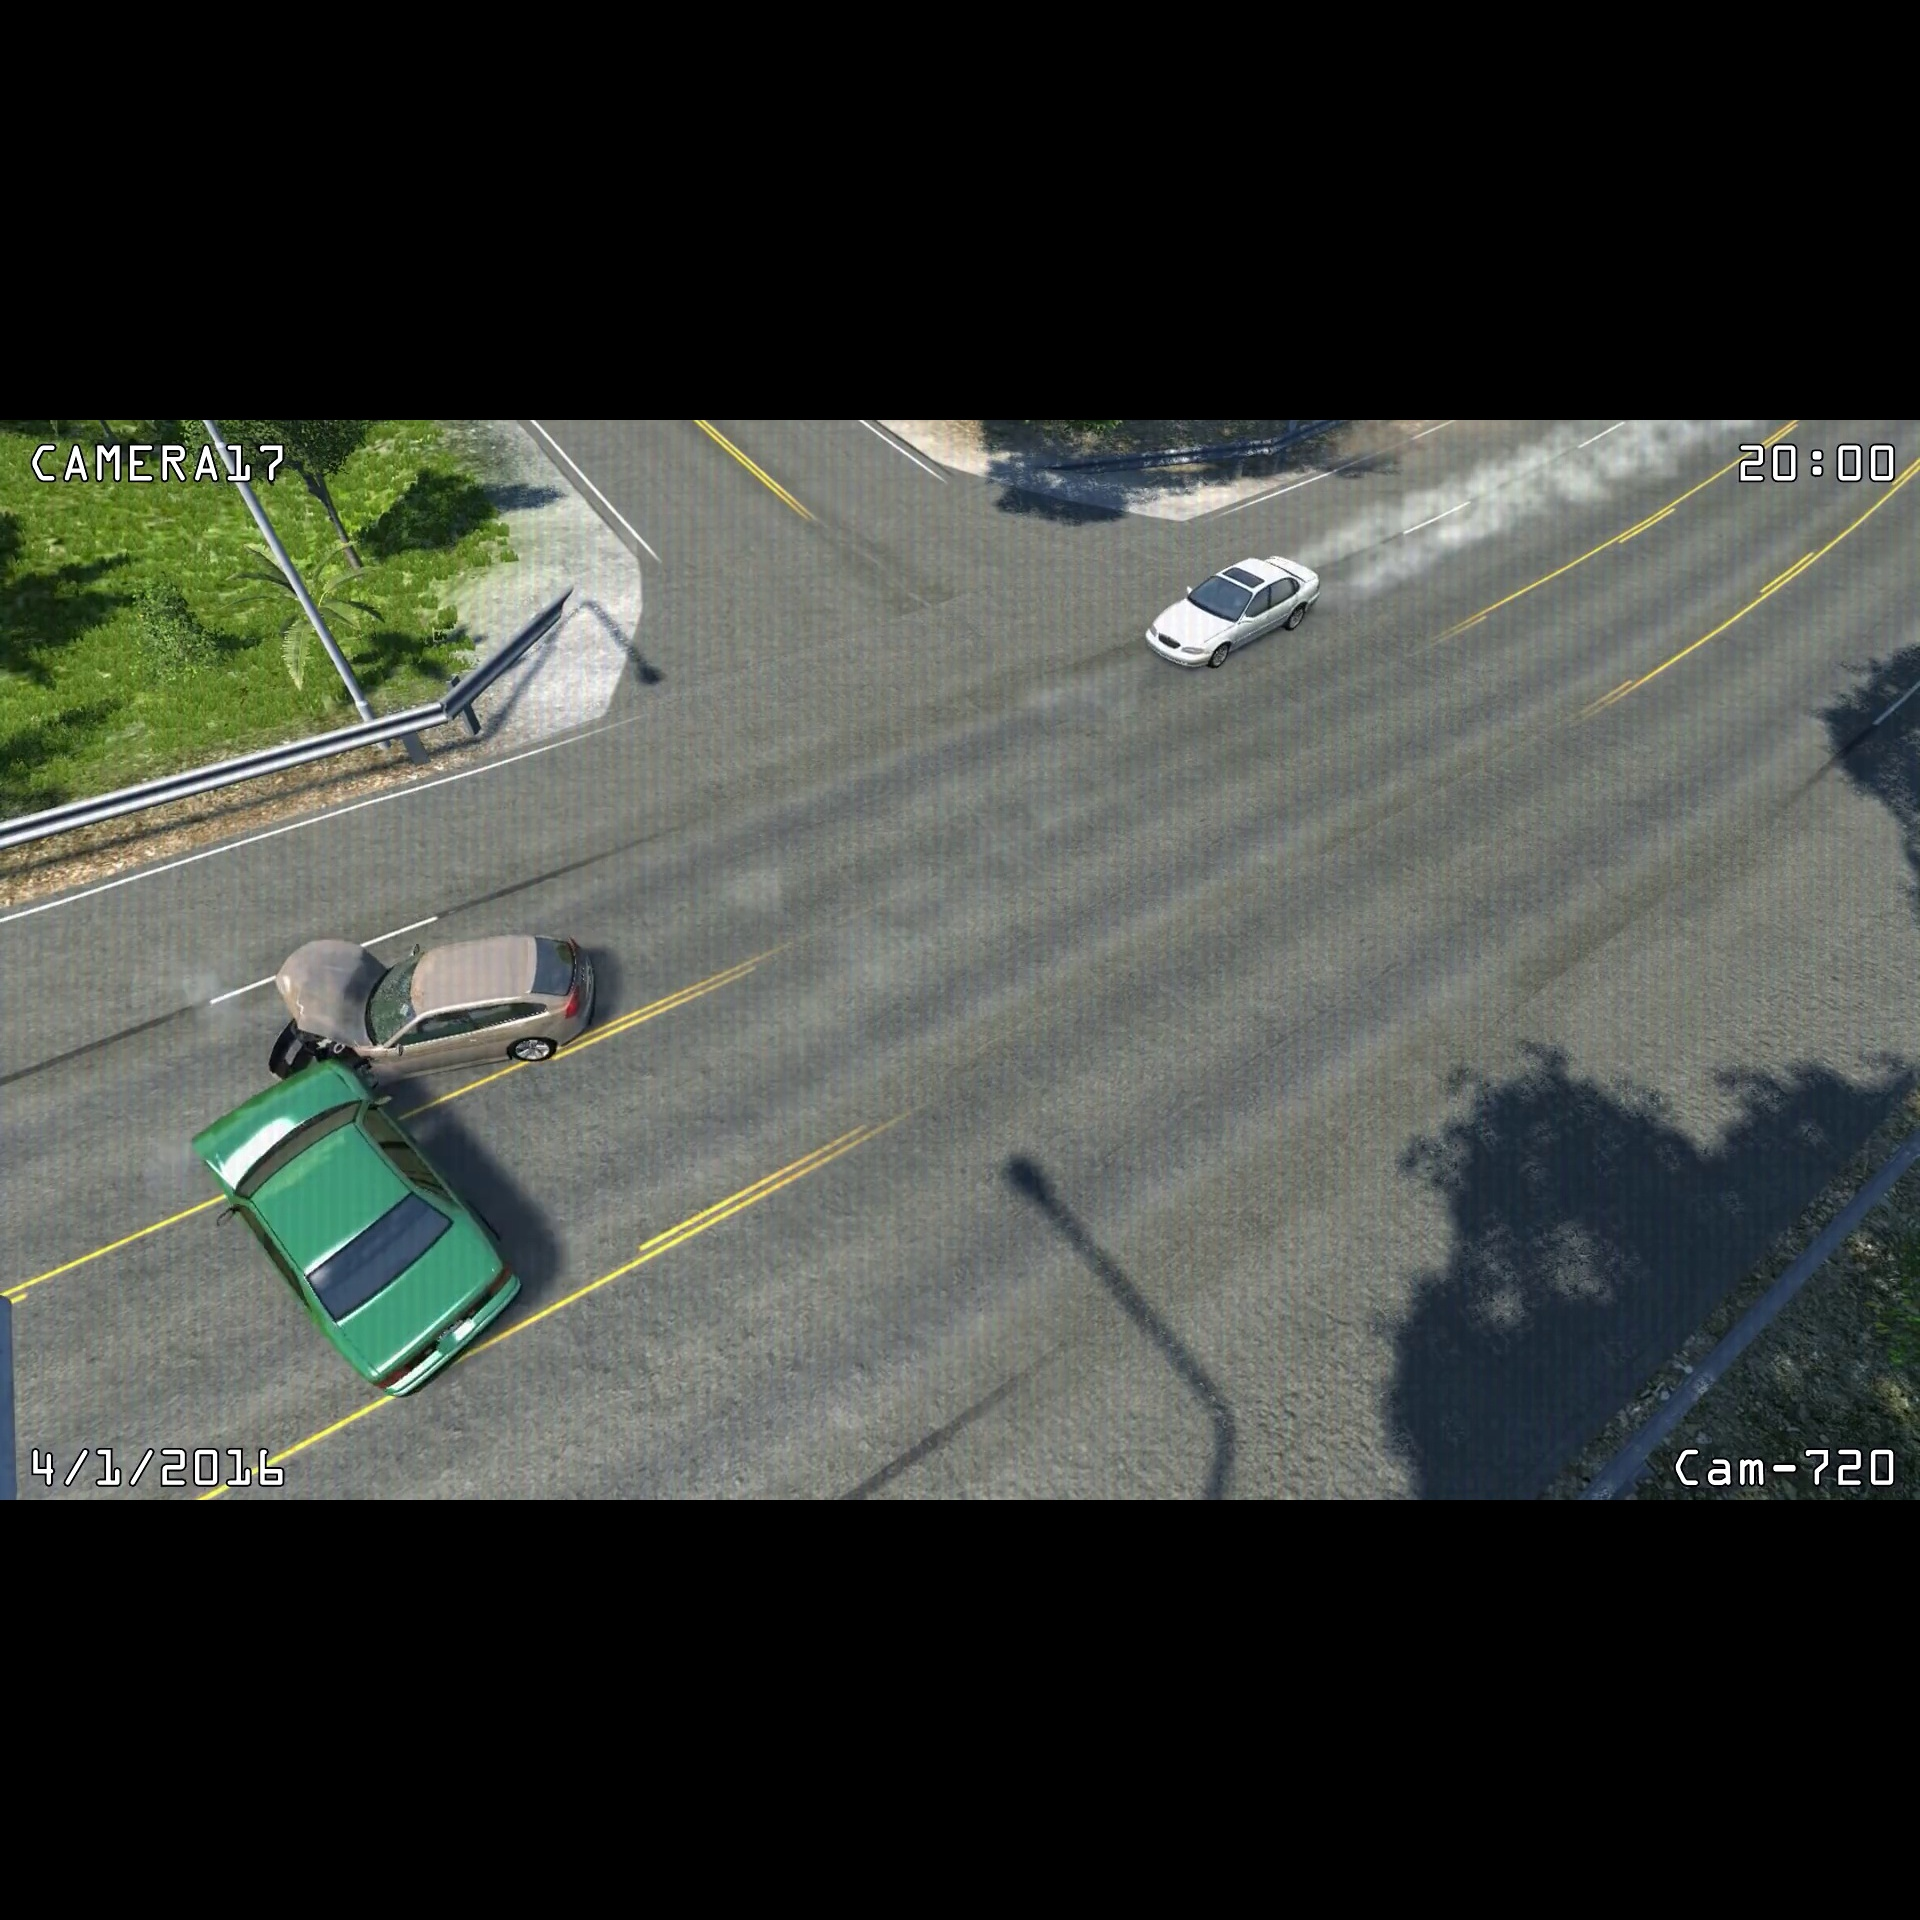vehicle: (185, 1053, 529, 1407), (260, 913, 615, 1104), (1143, 545, 1329, 677)
